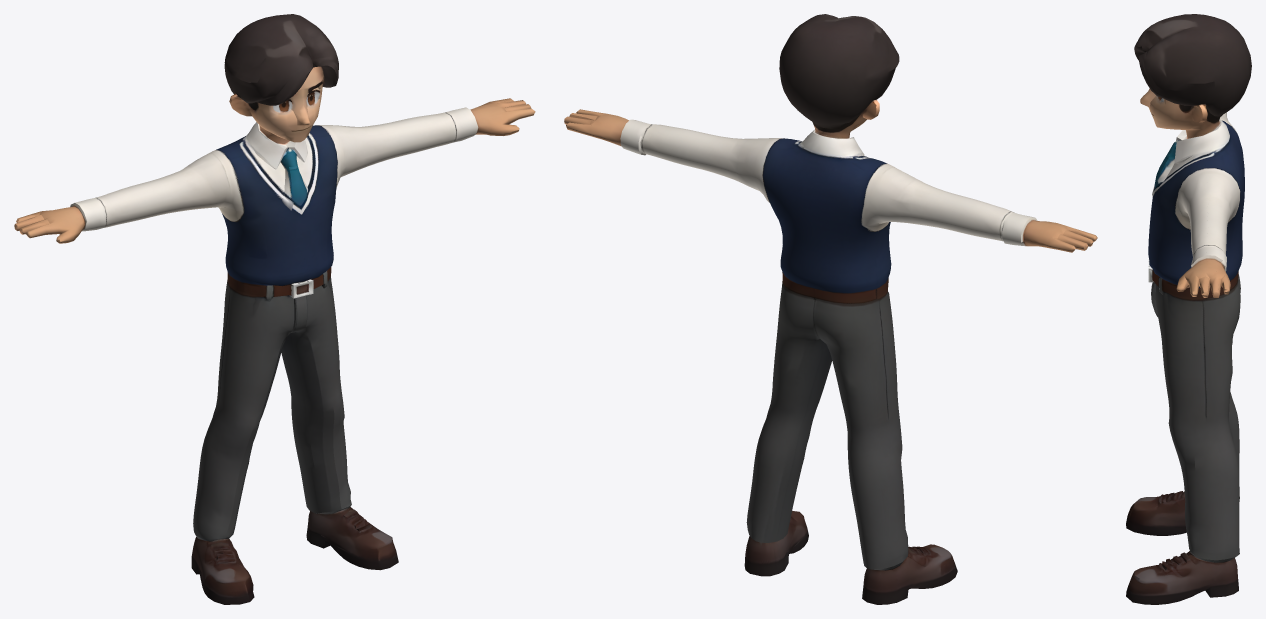
The model's file is male_uniform.obj.
3 renders of one model, left to right at view 1: azimuth 30°, elevation 25°; view 2: azimuth 150°, elevation 25°; view 3: azimuth 270°, elevation 25°, orthographic. The views are drawn at different scales.
Parts seen in each view (by area): view 1: model; view 2: model; view 3: model.
Part boxes in pixels (x1=…): model: x1=14, y1=14, x2=535, y2=604; model: x1=564, y1=14, x2=1097, y2=604; model: x1=1126, y1=14, x2=1251, y2=604.
Size of the model in its own units: 1.75 by 1.77 by 0.3733.
Materials: 1 (1 with a texture image).
